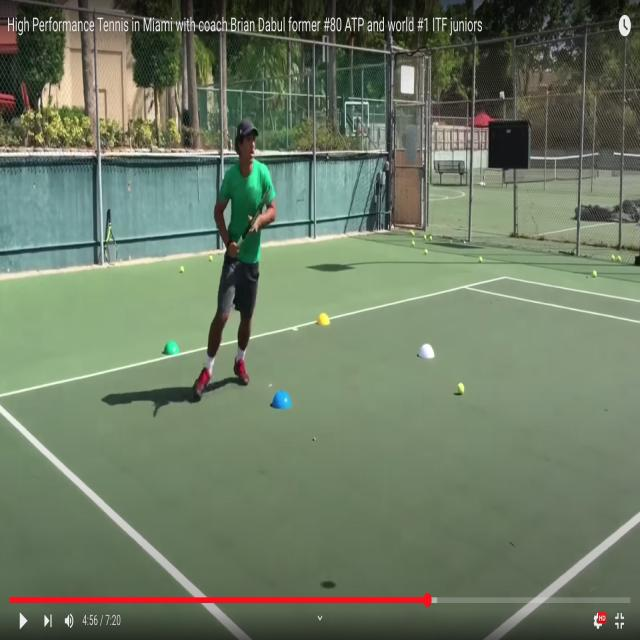ball: (458, 382, 464, 396), (593, 270, 597, 278), (611, 255, 615, 262), (209, 255, 213, 262), (180, 266, 184, 273), (424, 249, 428, 255), (617, 256, 621, 262), (412, 232, 415, 238), (479, 257, 482, 263), (412, 240, 414, 247), (430, 236, 432, 242), (424, 236, 426, 240)
